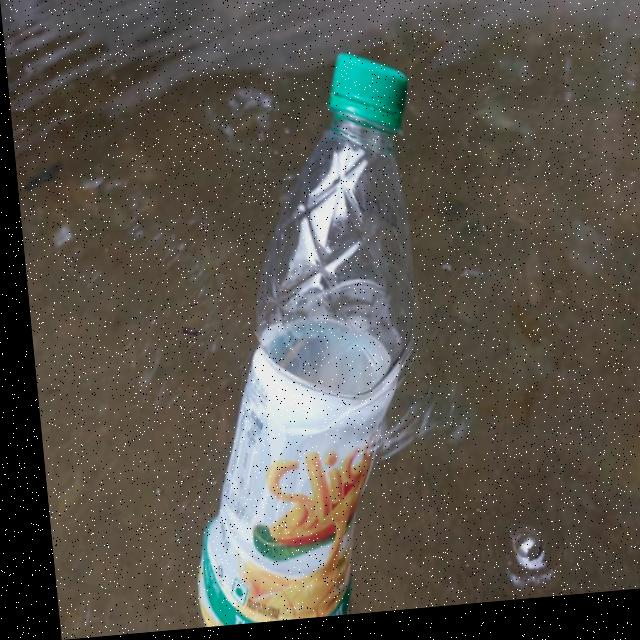waterbottle: (140, 24, 433, 630)
